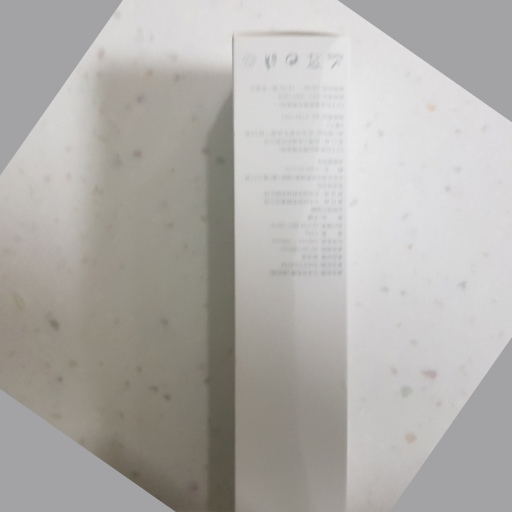Paper_0: (220, 26, 369, 512)
